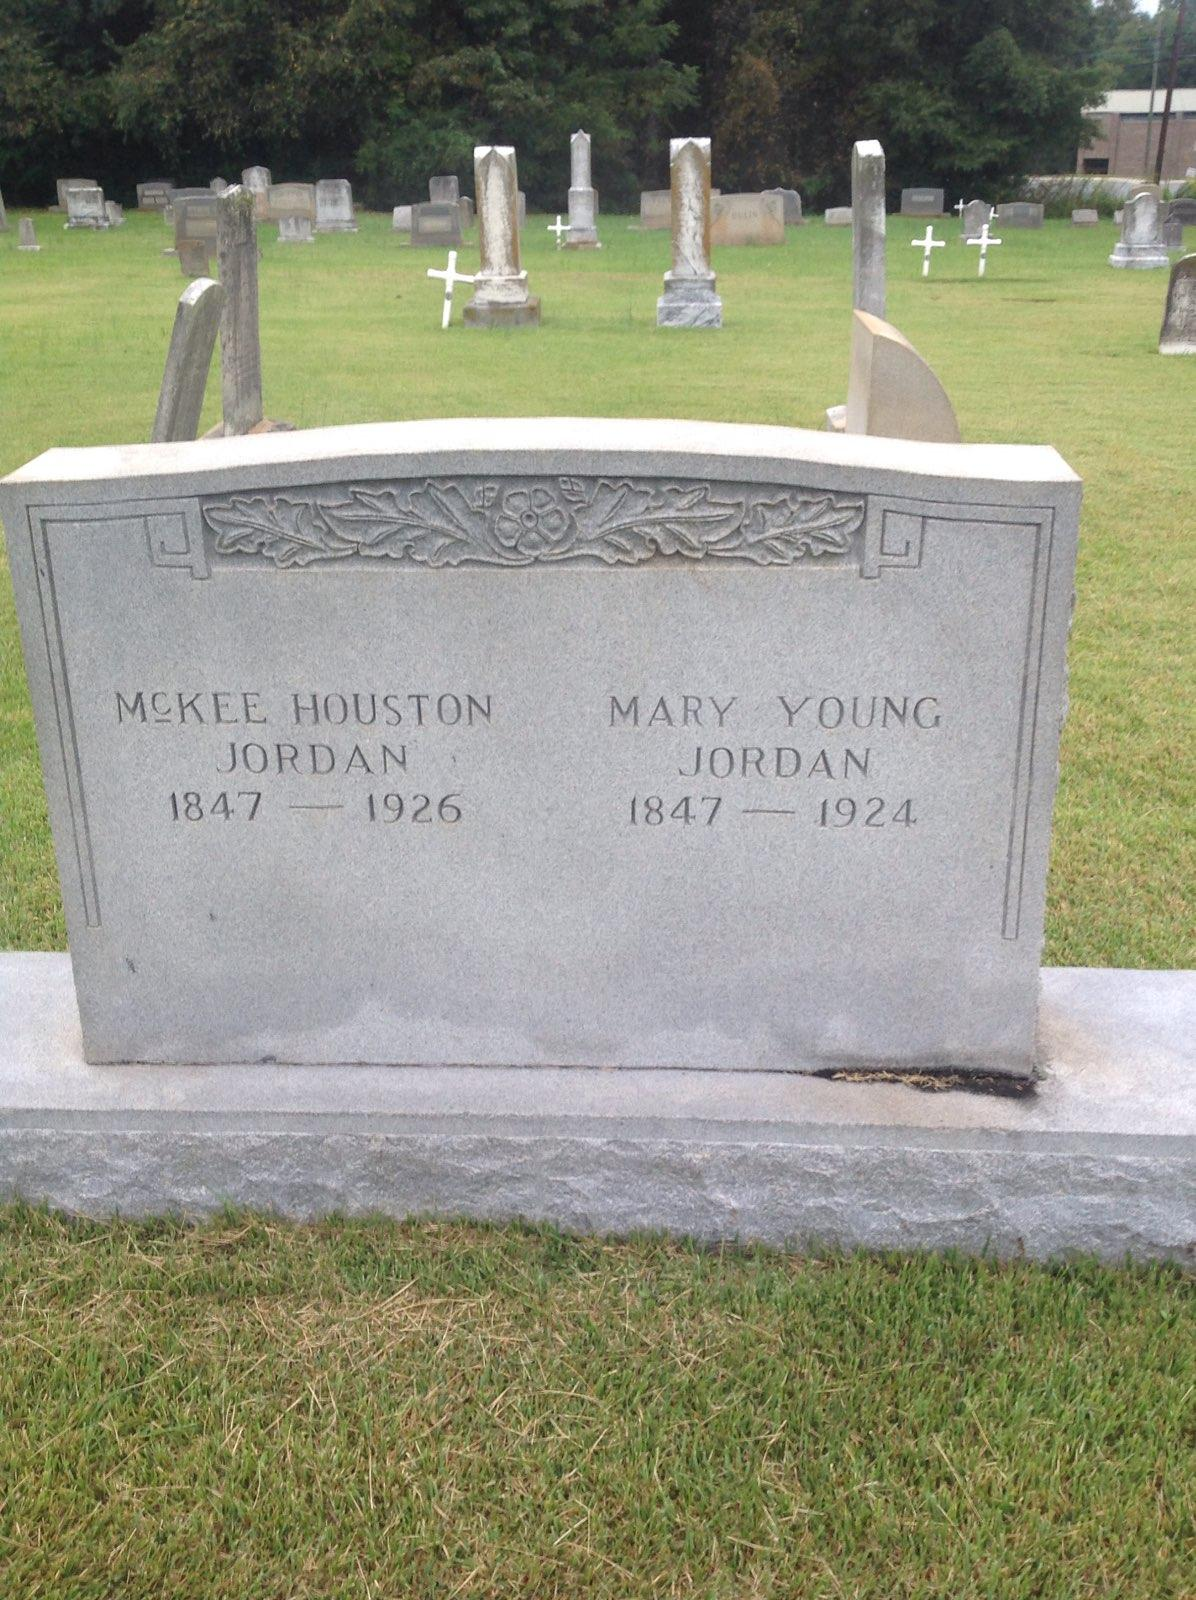upright: (0, 412, 1192, 1196)
